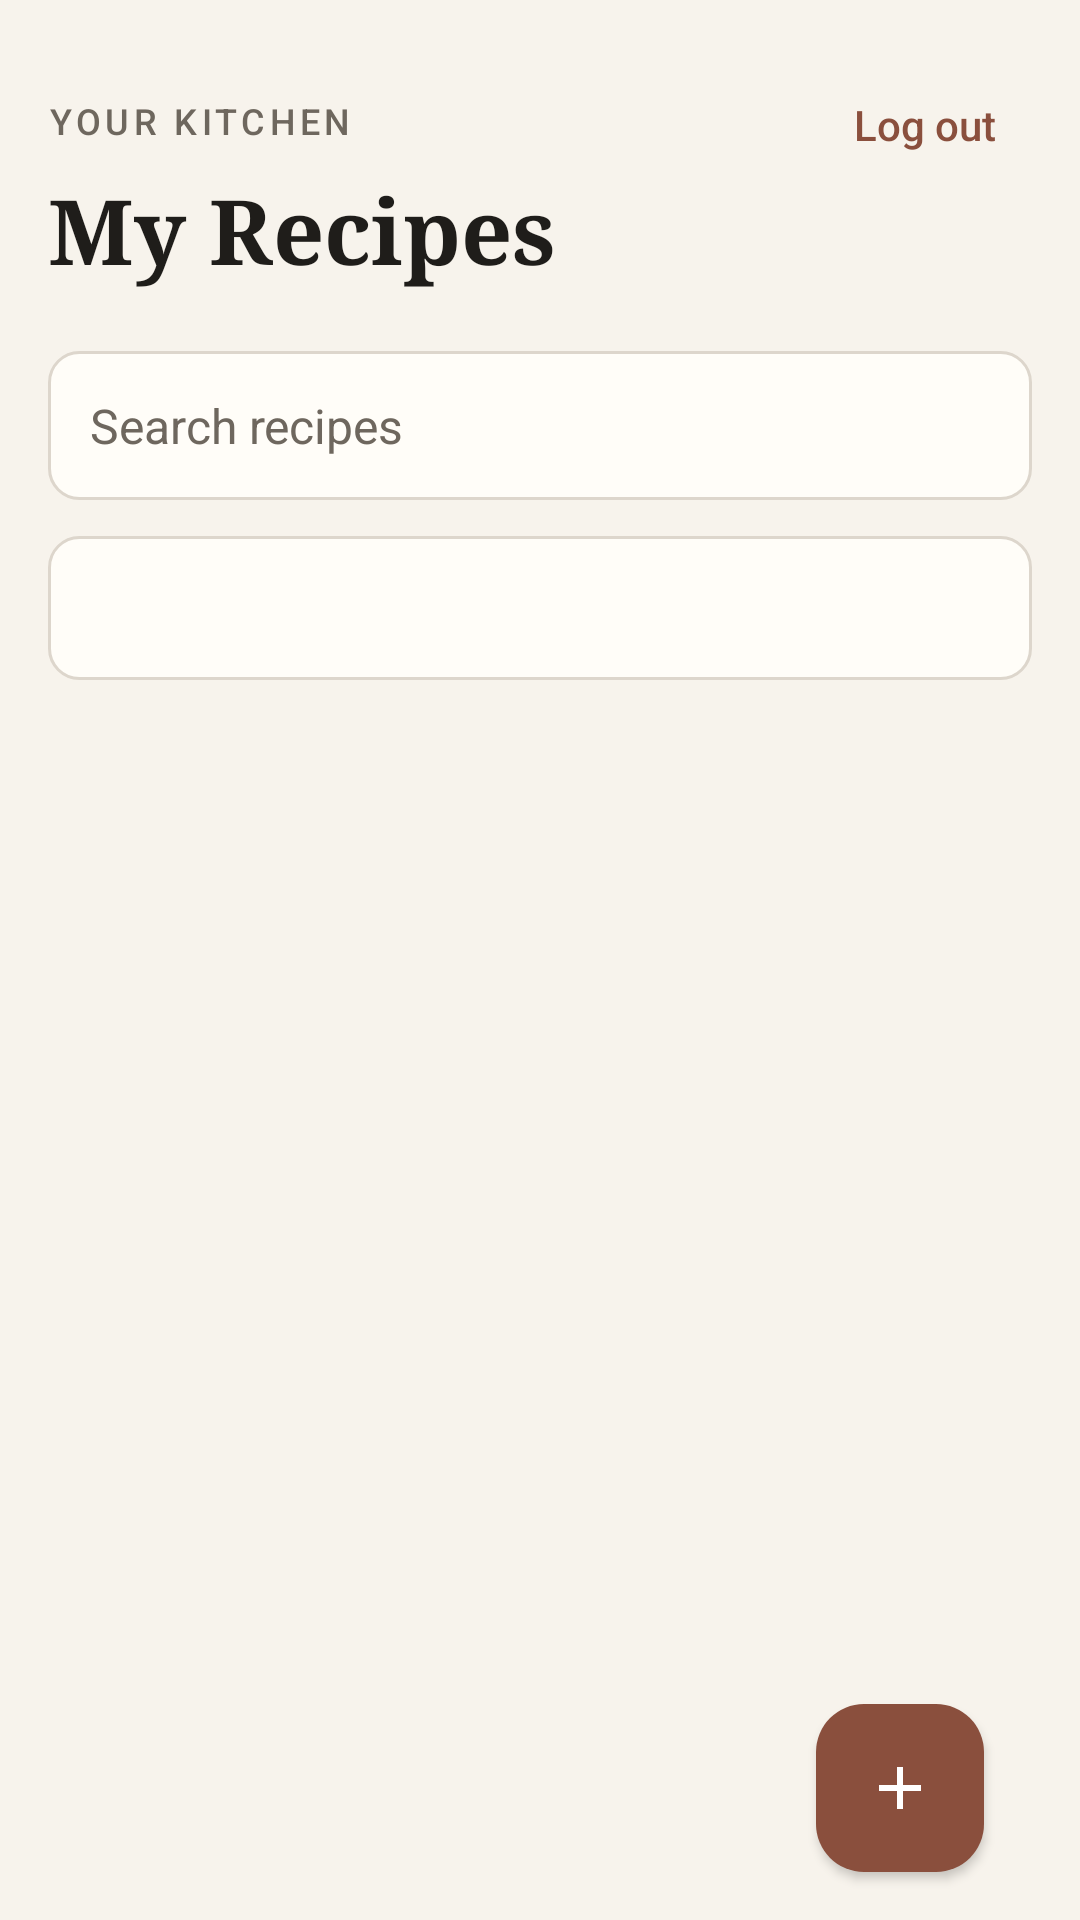

Where to tap for icons on this 1080px x 1920px app screen, as [x,y]:
Add recipe: [900,1788]
